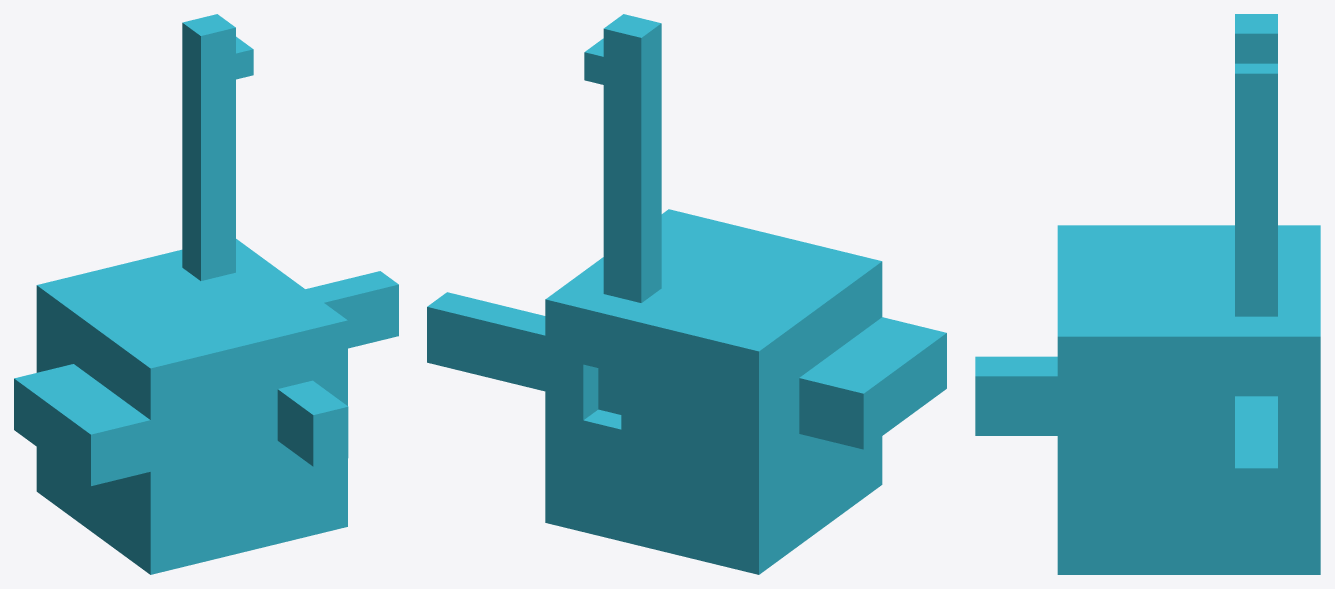
Rendered from glif04.glb.
3 views of the same model, side by side, from view 1: azimuth 30°, elevation 25°; view 2: azimuth 150°, elevation 25°; view 3: azimuth 270°, elevation 25° (orthographic). The views are drawn at different scales.
Parts seen in each view (by area): view 1: Cube; view 2: Cube; view 3: Cube.
Boxes of the visible parts, box(x1,y1,x2,y2) form: Cube: box(14, 14, 398, 574); Cube: box(427, 14, 946, 574); Cube: box(975, 14, 1320, 574).
Size of the model in its own units: 1.95 by 2.19 by 1.31.
